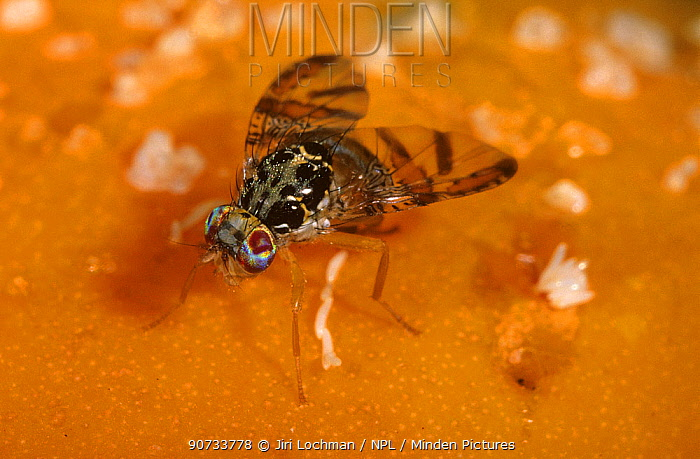Fruit fly: (184, 82, 467, 336)
